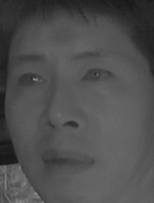eye: (78, 65, 117, 89), (12, 70, 50, 92)
mouth: (40, 143, 95, 178)
